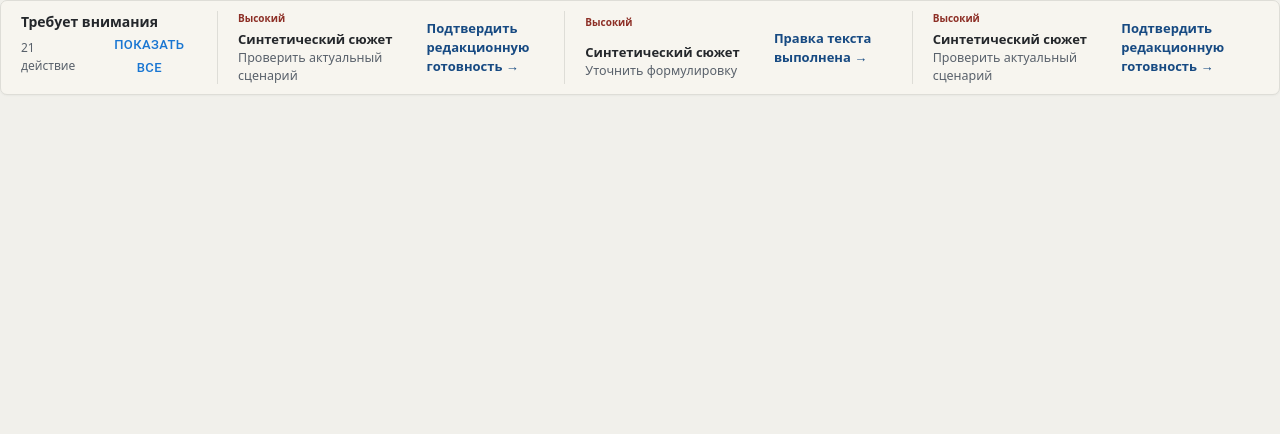
it: AttentionQueue › keeps the compact preview visible and exposes an accessible error if full loading fails
Click the button with aria-label "Показать все действия". click: point(149, 57)
box: [98,32,201,82]
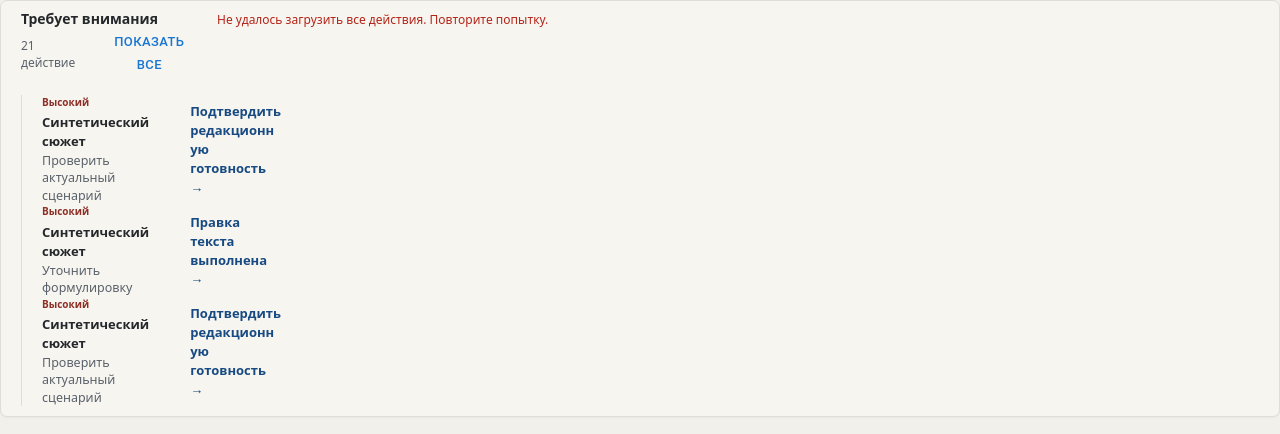
Check: the number of links is 3, box [190,102,281,197]; [190,213,281,288]; [190,304,281,398]
Check: the message shows "Не удалось загрузить все действия", box [217,11,548,28]
